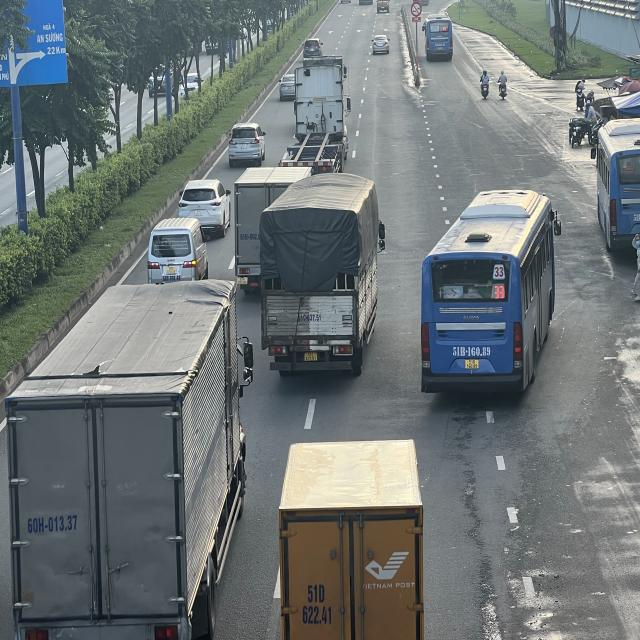car: (178, 179, 230, 235), (226, 123, 265, 167)
coach: (420, 190, 558, 398), (596, 122, 640, 256), (426, 14, 455, 62)
container: (285, 59, 351, 173)
truck: (8, 279, 254, 639), (282, 438, 430, 638), (260, 172, 384, 376)
van: (146, 215, 207, 282)
